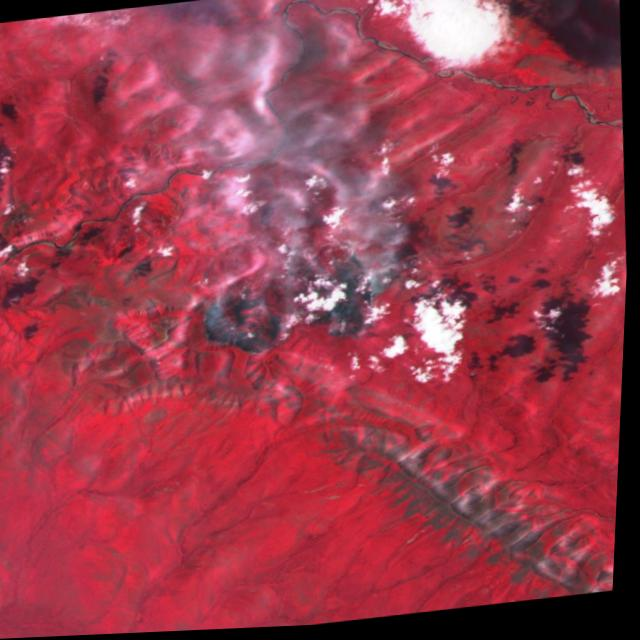fire: (192, 244, 404, 361)
